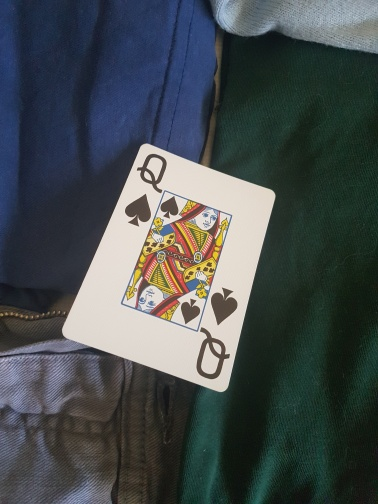queen: (60, 144, 277, 391)
